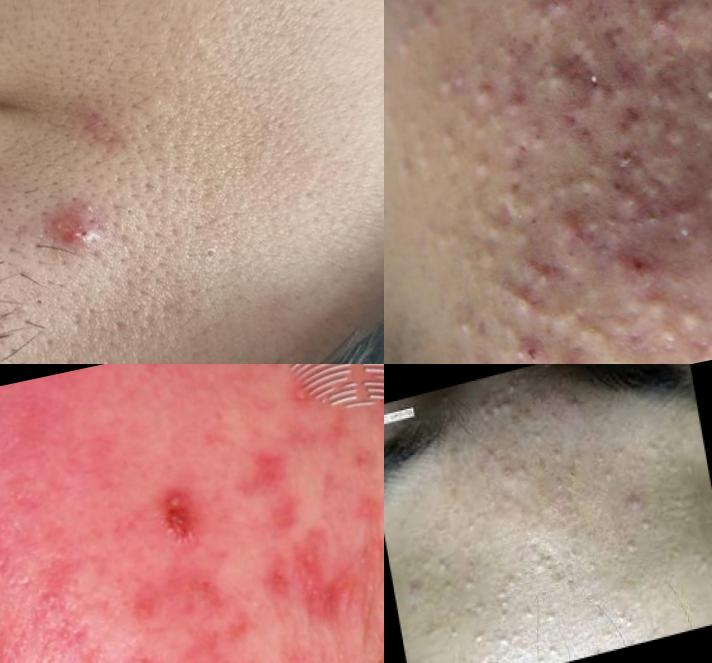acne_scars: (281, 521, 363, 627), (225, 442, 295, 505), (243, 549, 296, 601), (129, 576, 178, 628), (50, 610, 99, 661), (341, 427, 382, 482), (187, 566, 223, 613), (118, 635, 171, 663), (198, 648, 266, 663)
blackhead: (194, 228, 235, 278), (493, 447, 526, 496), (556, 460, 589, 494)
papular: (446, 33, 533, 132), (494, 245, 556, 322), (612, 239, 669, 294)
sebo-crystan-conglo: (19, 177, 139, 281), (150, 469, 201, 547), (508, 325, 552, 365), (555, 22, 598, 61), (522, 109, 555, 156)
whitehead: (631, 276, 712, 356), (533, 153, 620, 214), (460, 376, 529, 440), (632, 419, 686, 491), (390, 110, 441, 185), (539, 299, 603, 356), (385, 10, 434, 66), (418, 207, 466, 260), (426, 546, 463, 603), (551, 236, 595, 279), (591, 438, 622, 492), (682, 166, 712, 218), (468, 148, 502, 192), (632, 45, 672, 82), (598, 201, 624, 244), (690, 94, 712, 139), (493, 583, 516, 625), (538, 602, 566, 636), (620, 529, 644, 568), (493, 626, 524, 654), (639, 503, 659, 541), (461, 576, 482, 599), (470, 630, 489, 653), (522, 605, 539, 628)
